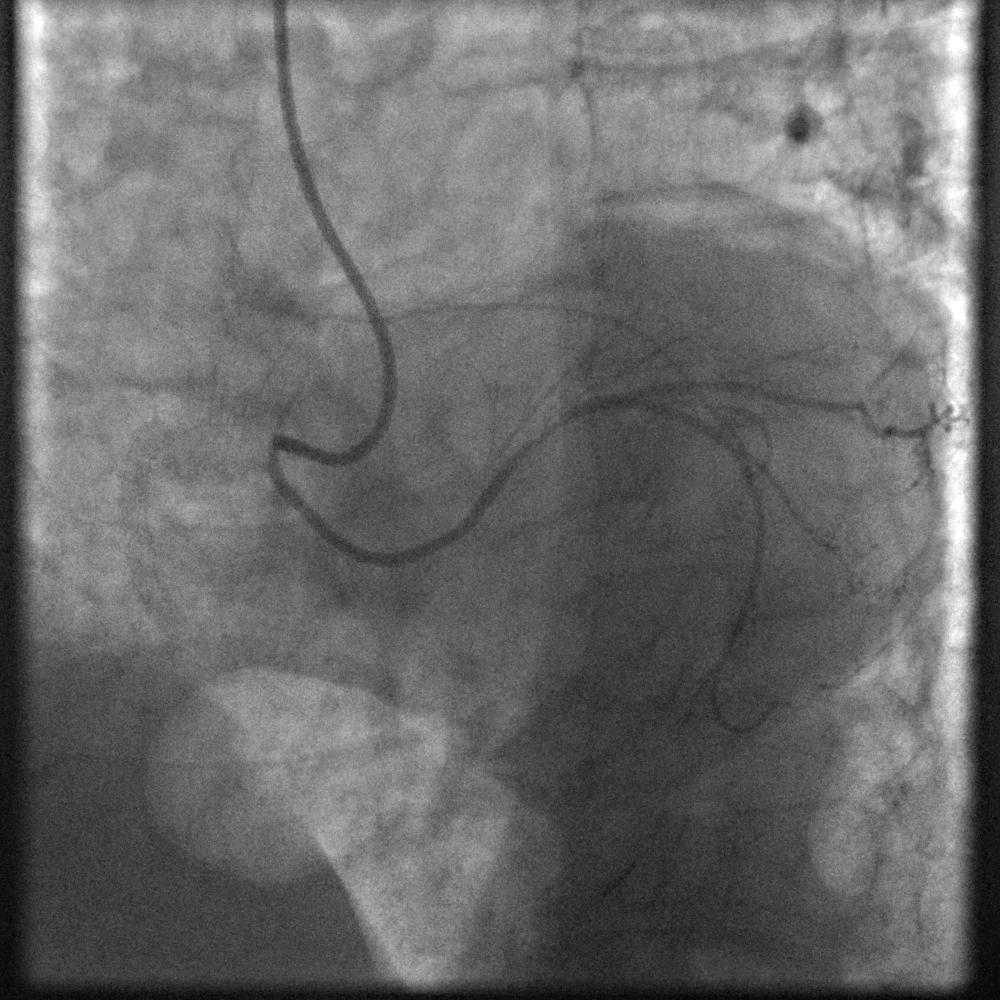Stenosis: (520, 410, 584, 450)
